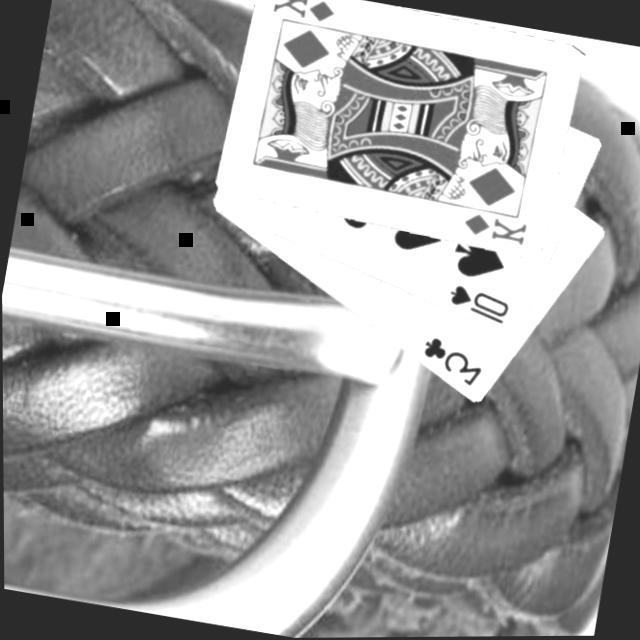10S: (439, 282, 514, 331)
3C: (412, 334, 488, 394)
KD: (456, 210, 530, 252), (268, 0, 338, 29)
